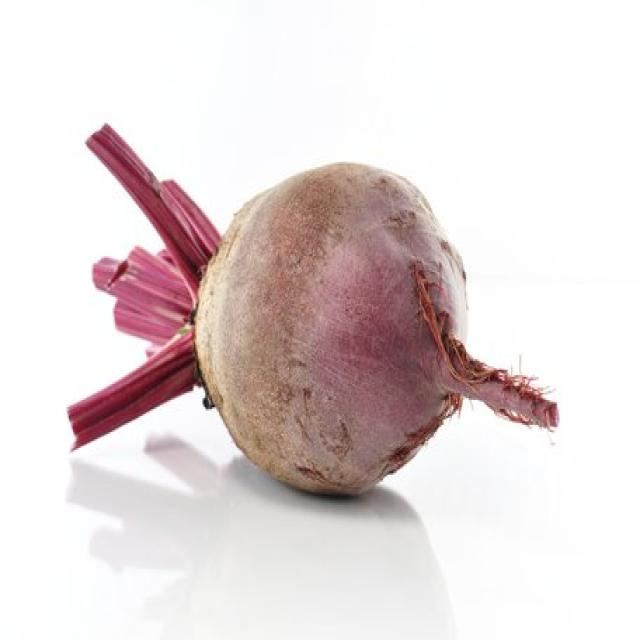Beetroot: (64, 121, 558, 498)
Carrot: (65, 121, 222, 453)
